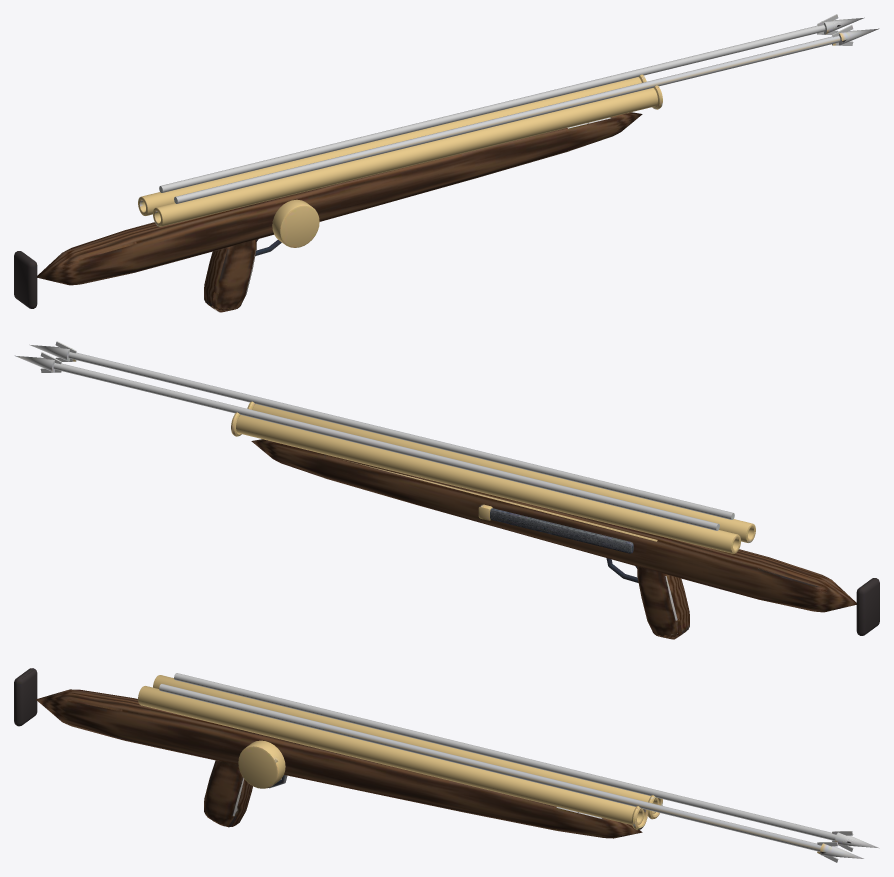
File: twinspear.glb
The picture shows the model from 3 angles, top to bottom: view 1: azimuth 30°, elevation 25°; view 2: azimuth 150°, elevation 25°; view 3: azimuth 330°, elevation 25°; orthographic projection.
Parts seen in each view (by area): view 1: stock, tube-0.014, spear0.014, spear-0.014, tube0.014, grip, spool, butt_pad; view 2: stock, tube0.014, spear0.014, spear-0.014, tube-0.014, grip, cocking_lever, butt_pad; view 3: stock, tube-0.014, spear-0.014, spear0.014, tube0.014, grip, spool, butt_pad.
Boxes of the visible parts, box(x1,y1,x2,y2) form: stock: box(37, 112, 642, 285); tube-0.014: box(153, 88, 657, 226); spear0.014: box(159, 25, 825, 192); spear-0.014: box(174, 36, 840, 203); tube0.014: box(138, 77, 641, 215); grip: box(204, 239, 256, 312); spool: box(272, 199, 319, 247); butt_pad: box(14, 251, 37, 308); stock: box(251, 439, 856, 612); tube0.014: box(236, 415, 740, 553); spear0.014: box(53, 363, 719, 530); spear-0.014: box(68, 352, 734, 519); tube-0.014: box(252, 404, 755, 542); grip: box(637, 566, 689, 639); cocking_lever: box(490, 508, 633, 553); butt_pad: box(856, 578, 879, 635); stock: box(36, 689, 642, 838); tube-0.014: box(138, 686, 644, 824); spear-0.014: box(159, 684, 821, 851); spear0.014: box(174, 673, 836, 840); tube0.014: box(153, 675, 658, 813); grip: box(204, 760, 252, 827); spool: box(238, 740, 285, 788); butt_pad: box(14, 668, 37, 726).
Bounding box in the file's own units: 0.9245 × 0.1459 × 0.079.
Materials: 1 (1 with a texture image).
